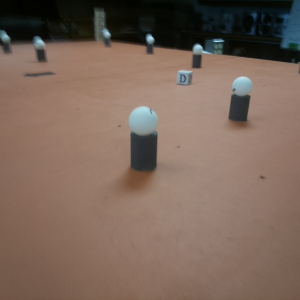blockD: (178, 70, 192, 85)
corner: (95, 10, 104, 41)
obstacle: (129, 107, 157, 167), (229, 77, 252, 122), (31, 39, 47, 62), (192, 44, 203, 70), (144, 33, 155, 52), (2, 34, 12, 51), (103, 30, 110, 45)
start: (24, 69, 53, 78)
